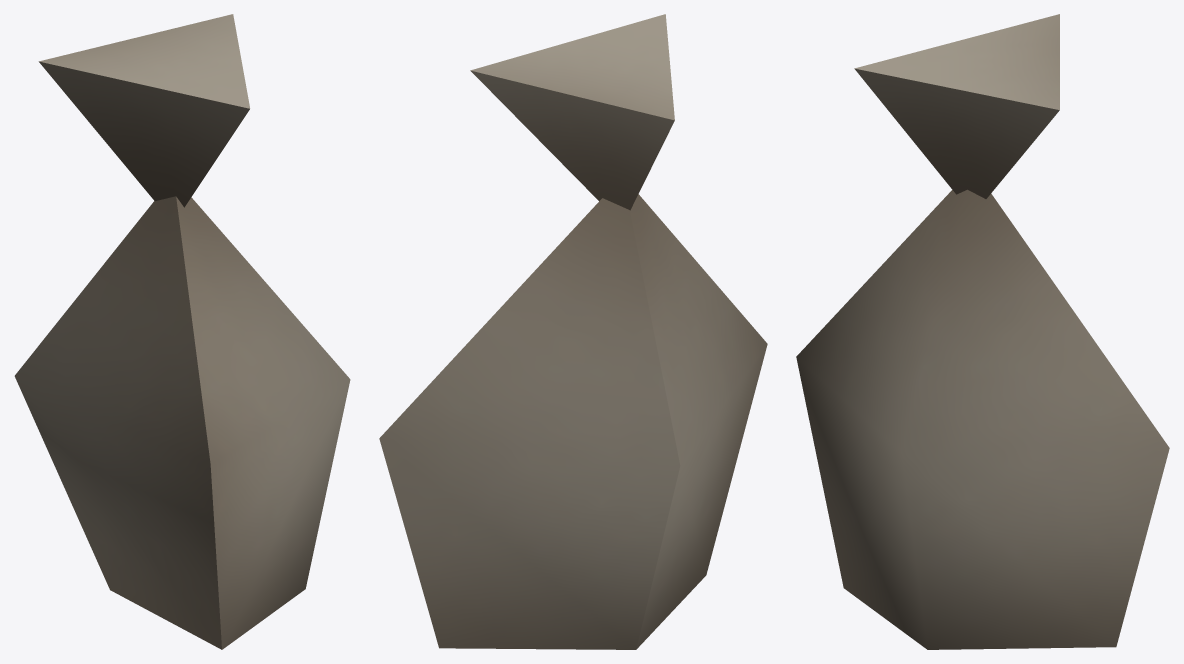
File: zhucheng01_DiTan06.FBX
3 renders of one model, left to right at view 1: azimuth 30°, elevation 25°; view 2: azimuth 150°, elevation 25°; view 3: azimuth 270°, elevation 25°, orthographic. The views are drawn at different scales.
Visible parts, largest first — view 1: Object87; view 2: Object87; view 3: Object87.
Part boxes in pixels (x1,y1,x2,y2): Object87: (14, 14, 350, 649); Object87: (379, 14, 767, 649); Object87: (796, 14, 1169, 649).
Size of the model in its own units: 0.48 by 0.9768 by 0.6167.
